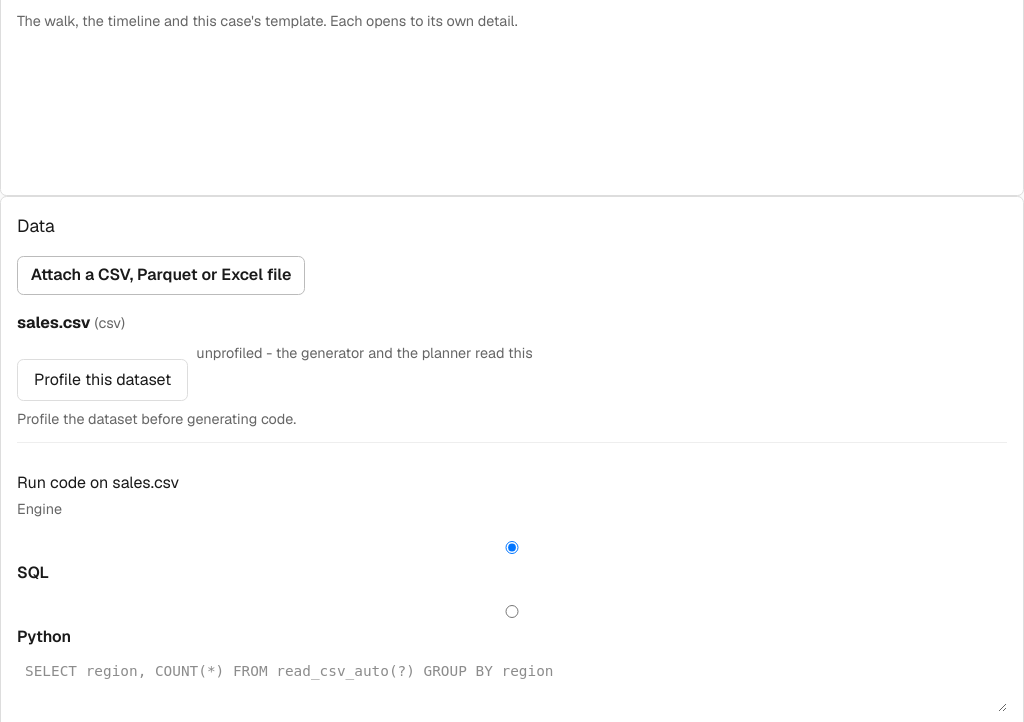
Test: CaseWorkspace › offers a profile for a dataset that has none rather than making one
(page scrolled)
Expected: the text "unprofiled - the generator and the planner read this" is shown, [196, 344, 533, 362]
// The analyst asks, and the profile lands.
Click the button with aria-label "profile sales.csv" at (103, 380), box [17, 359, 188, 401]
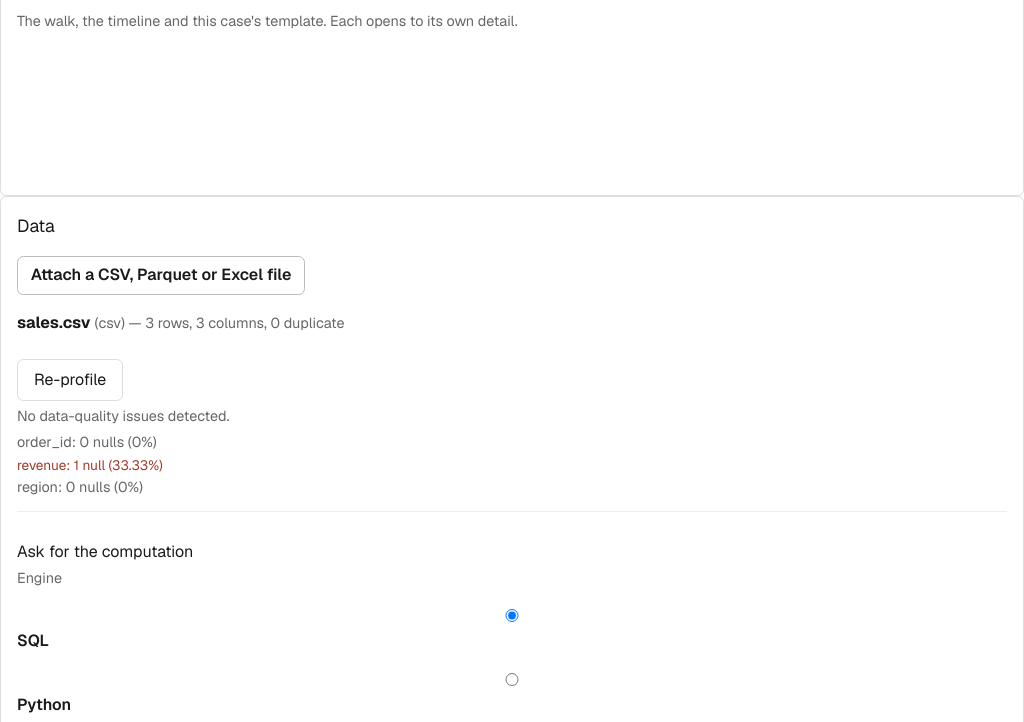
Expected: the text "— 3 rows, 3 columns, 0 duplicate" is shown, [125, 314, 344, 332]
